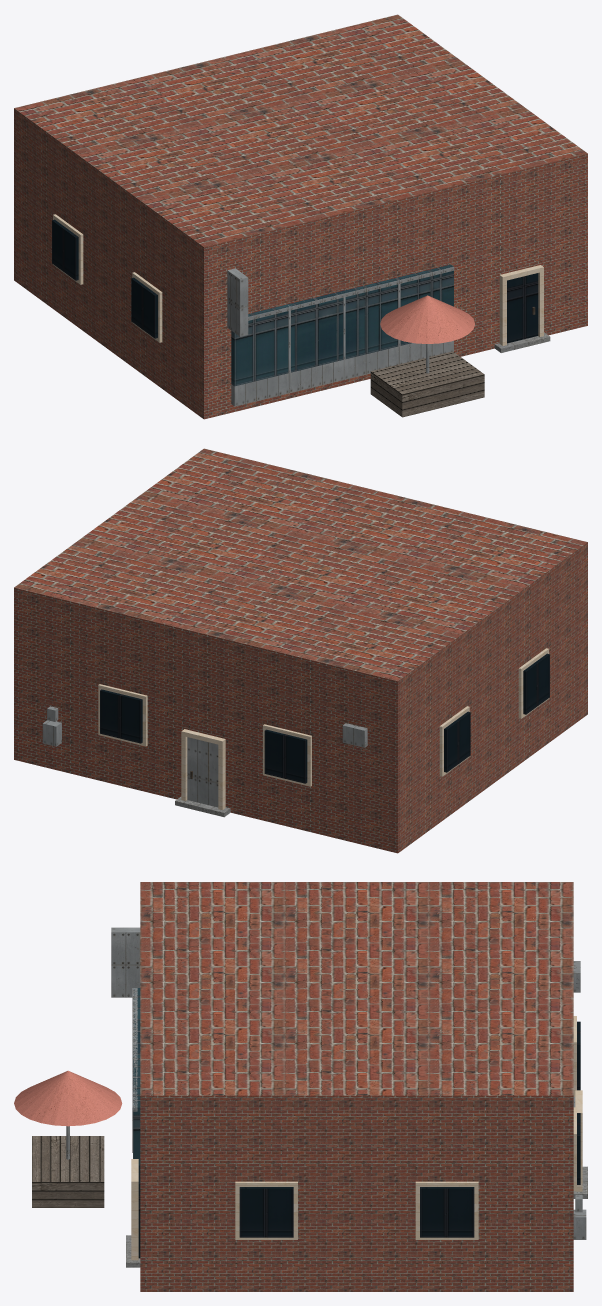
Rendered from coffee-shop_lod0.gltf.
3 views of the same model, one above another, from view 1: azimuth 30°, elevation 25°; view 2: azimuth 150°, elevation 25°; view 3: azimuth 270°, elevation 25° (orthographic). The views are drawn at different scales.
Parts seen in each view (by area): view 1: coffee-shop_main, coffee-shop_fen_07-glass-curtain-blue_1, coffee-shop_fen_14-steel-panel_0, coffee-shop__patio_tables, coffee-shop_fen_07-glass-curtain-blue_3_t, coffee-shop__umbrella, coffee-shop_fen_04-limestone_2, coffee-shop__blade_sign; view 2: coffee-shop_main, coffee-shop_fen_07-glass-curtain-blue_3_t, coffee-shop_fen_04-limestone_2, coffee-shop_fen_14-steel-panel_0; view 3: coffee-shop_main, coffee-shop_fen_07-glass-curtain-blue_3_t, coffee-shop__patio_tables, coffee-shop__umbrella, coffee-shop_fen_04-limestone_2, coffee-shop__blade_sign, coffee-shop_fen_14-steel-panel_0, coffee-shop_fen_07-glass-curtain-blue_1.
Part boxes in pixels (left/top/right/bottom): coffee-shop_main: left=14, top=14, right=587, bottom=419; coffee-shop_fen_07-glass-curtain-blue_1: left=231, top=264, right=453, bottom=386; coffee-shop_fen_14-steel-panel_0: left=231, top=267, right=454, bottom=406; coffee-shop__patio_tables: left=370, top=351, right=484, bottom=417; coffee-shop_fen_07-glass-curtain-blue_3_t: left=52, top=219, right=538, bottom=343; coffee-shop__umbrella: left=380, top=295, right=474, bottom=343; coffee-shop_fen_04-limestone_2: left=53, top=214, right=543, bottom=345; coffee-shop__blade_sign: left=227, top=268, right=248, bottom=336; coffee-shop_main: left=14, top=448, right=587, bottom=853; coffee-shop_fen_07-glass-curtain-blue_3_t: left=100, top=653, right=549, bottom=783; coffee-shop_fen_04-limestone_2: left=98, top=648, right=548, bottom=809; coffee-shop_fen_14-steel-panel_0: left=42, top=706, right=367, bottom=807; coffee-shop_main: left=140, top=882, right=573, bottom=1291; coffee-shop_fen_07-glass-curtain-blue_3_t: left=138, top=1021, right=580, bottom=1258; coffee-shop__patio_tables: left=32, top=1136, right=104, bottom=1207; coffee-shop__umbrella: left=14, top=1070, right=122, bottom=1126; coffee-shop_fen_04-limestone_2: left=131, top=1016, right=582, bottom=1260; coffee-shop__blade_sign: left=111, top=927, right=140, bottom=997; coffee-shop_fen_14-steel-panel_0: left=132, top=961, right=586, bottom=1239; coffee-shop_fen_07-glass-curtain-blue_1: left=133, top=988, right=140, bottom=1165.
Size of the model in its own units: 14.4 by 6 by 15.9.
